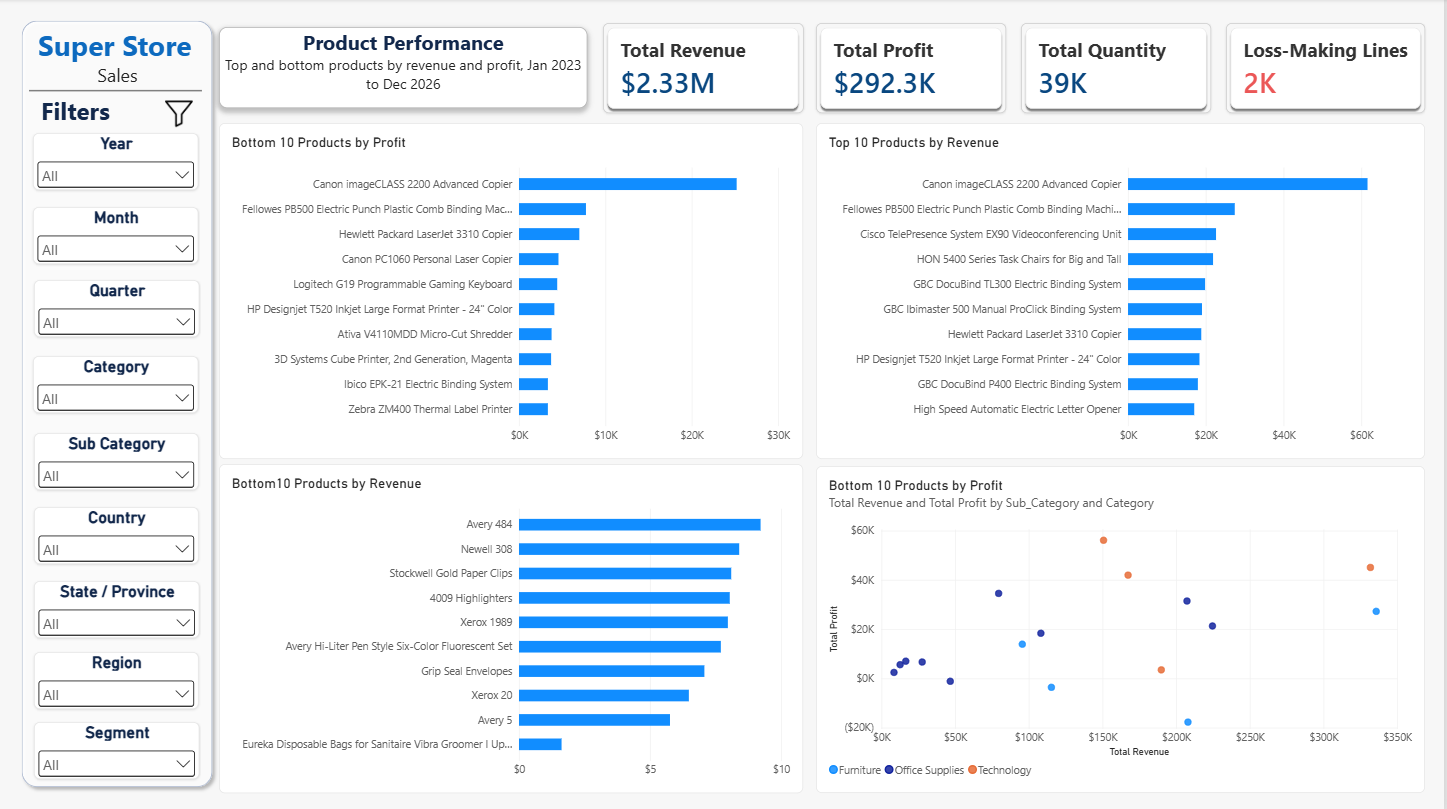

Layout of this report page (visuals, bound fields, positions):
{"tool":"powerbi","page":{"name":"Product Performance","canvas":[1920,1080],"ordinal":2},"visuals":[{"type":"barChart","title":"Top 10 Products by Revenue","fields":{"Category":["dim_Product.Product_Name"],"Y":["fact_Sales.Total Revenue"]},"box":[1085,165,810,446.7],"z":15000},{"type":"barChart","title":"Bottom10 Products by Revenue","fields":{"Category":["dim_Product.Product_Name"],"Y":["fact_Sales.Total Revenue"]},"box":[291.7,618.3,776.7,438.3],"z":16000},{"type":"barChart","title":"Bottom 10 Products by Profit","fields":{"Category":["dim_Product.Product_Name"],"Y":["fact_Sales.Total Profit"]},"box":[291.7,165,776.7,446.7],"z":17000},{"type":"scatterChart","title":"Bottom 10 Products by Profit","fields":{"Category":["dim_Product.Sub_Category"],"Series":["dim_Product.Category"],"X":["fact_Sales.Total Revenue"],"Y":["fact_Sales.Total Profit"]},"box":[1085,621.7,810,435],"z":18000},{"type":"shape","box":[20,20,271.4,1037.1],"z":18001},{"type":"textbox","box":[35.7,125.7,128.6,52.9],"z":18002},{"type":"slicer","title":"Year","fields":{"Values":["dim_Date.Year"]},"box":[44.3,178.6,220,75.7],"z":18003},{"type":"textbox","box":[30,35.7,251.4,85.7],"z":18004},{"type":"shape","box":[38.6,100,230,44.3],"z":18005},{"type":"image","box":[220,127.1,37.1,50],"z":18006},{"type":"slicer","title":"Month","fields":{"Values":["dim_Date.Month_Name"]},"box":[44.3,277.1,220,75.7],"z":18007},{"type":"slicer","title":"Quarter","fields":{"Values":["dim_Date.Quarter"]},"box":[45.7,374.3,220,75.7],"z":18008},{"type":"slicer","title":"Category","fields":{"Values":["dim_Product.Category"]},"box":[44.3,474.3,220,75.7],"z":18009},{"type":"slicer","title":"Sub Category","fields":{"Values":["dim_Product.Sub_Category"]},"box":[45.7,577.1,218.6,75.7],"z":18010},{"type":"slicer","title":"Country","fields":{"Values":["dim_Geography.Country_Region"]},"box":[45.7,675.7,218.6,75.7],"z":18011},{"type":"slicer","title":"State / Province","fields":{"Values":["dim_Geography.State_Province"]},"box":[45.7,774.3,220,75.7],"z":18012},{"type":"slicer","title":"Region","fields":{"Values":["dim_Geography.Region"]},"box":[45.7,868.6,218.6,75.7],"z":18013},{"type":"slicer","title":"Segment","fields":{"Values":["dim_Customer.Segment"]},"box":[45.7,961.4,220,75.7],"z":18014},{"type":"textbox","box":[291.7,36.7,490,108.3],"z":18015},{"type":"cardVisual","fields":{"Data":["fact_Sales.Total Revenue"]},"box":[801.7,31.7,266.7,120],"z":18016},{"type":"cardVisual","fields":{"Data":["fact_Sales.Total Profit"]},"box":[1085,31.7,253.3,120],"z":18017},{"type":"cardVisual","fields":{"Data":["fact_Sales.Total Quantity"]},"box":[1358.3,31.7,253.3,120],"z":18018},{"type":"cardVisual","fields":{"Data":["fact_Sales.Loss-Making Lines"]},"box":[1630,31.7,265,120],"z":18019}]}

Visuals, with their boxes in screenshot pixels (x1, y1, x2, y2), scaled from the page's 1920x1080 canvas onto the 1447x809 screenshot:
"Top 10 Products by Revenue" barChart: BBox(818, 124, 1428, 458)
"Bottom10 Products by Revenue" barChart: BBox(220, 463, 805, 791)
"Bottom 10 Products by Profit" barChart: BBox(220, 124, 805, 458)
"Bottom 10 Products by Profit" scatterChart: BBox(818, 466, 1428, 792)
shape: BBox(15, 15, 220, 792)
textbox: BBox(27, 94, 124, 134)
"Year" slicer: BBox(33, 134, 199, 190)
textbox: BBox(23, 27, 212, 91)
shape: BBox(29, 75, 202, 108)
image: BBox(166, 95, 194, 133)
"Month" slicer: BBox(33, 208, 199, 264)
"Quarter" slicer: BBox(34, 280, 200, 337)
"Category" slicer: BBox(33, 355, 199, 412)
"Sub Category" slicer: BBox(34, 432, 199, 489)
"Country" slicer: BBox(34, 506, 199, 563)
"State / Province" slicer: BBox(34, 580, 200, 637)
"Region" slicer: BBox(34, 651, 199, 707)
"Segment" slicer: BBox(34, 720, 200, 777)
textbox: BBox(220, 27, 589, 109)
cardVisual - fact_Sales.Total Revenue: BBox(604, 24, 805, 114)
cardVisual - fact_Sales.Total Profit: BBox(818, 24, 1009, 114)
cardVisual - fact_Sales.Total Quantity: BBox(1024, 24, 1215, 114)
cardVisual - fact_Sales.Loss-Making Lines: BBox(1228, 24, 1428, 114)
